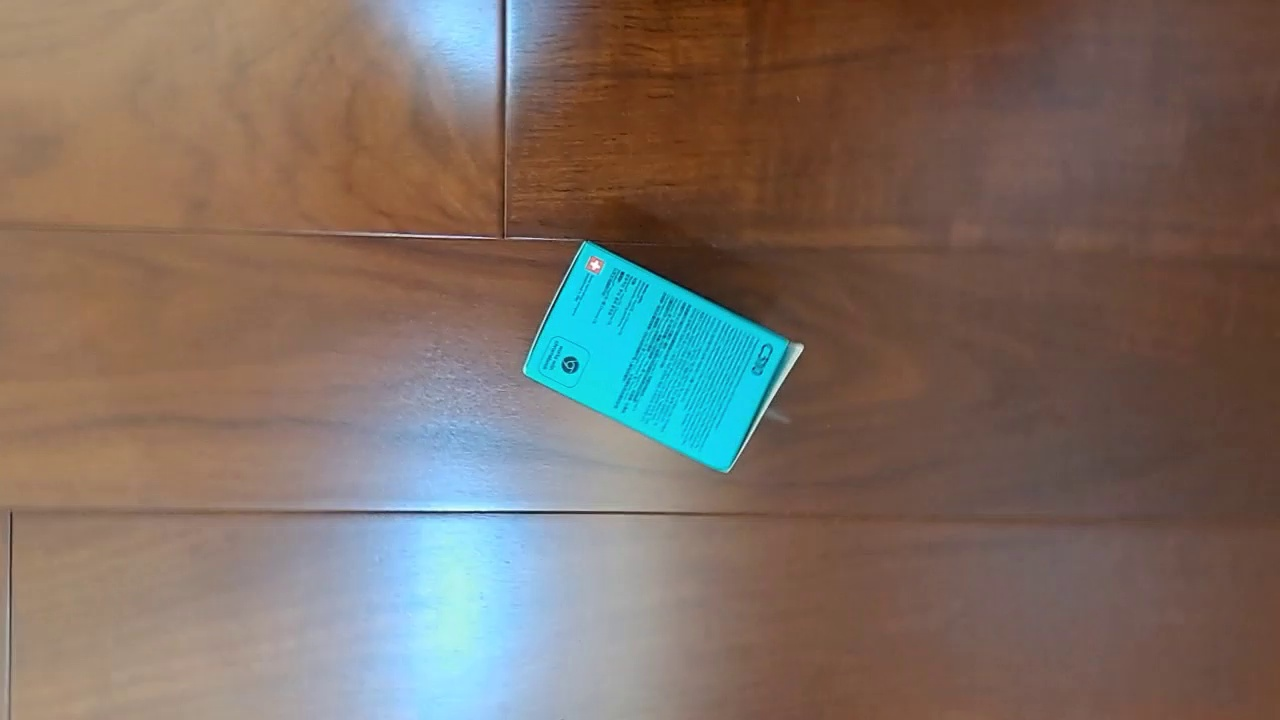webcam: (521, 237, 806, 475)
